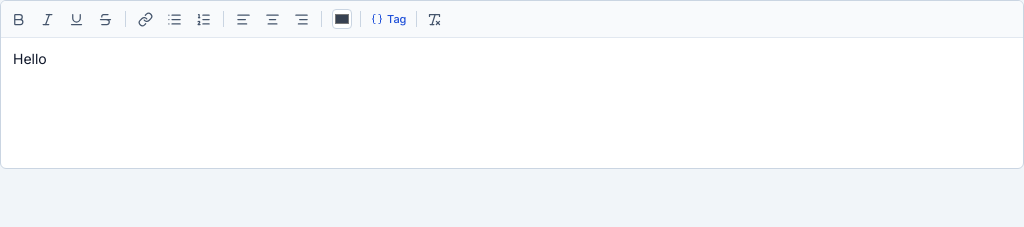
Test: RichTextEditor (real TipTap) › opens the link input
This screenshot has width=1024, height=227.
What coordinates should you click on to do the following:
click the button titled "Link"
I would click on:
 (146, 19)
Its box is [132,6,159,32].
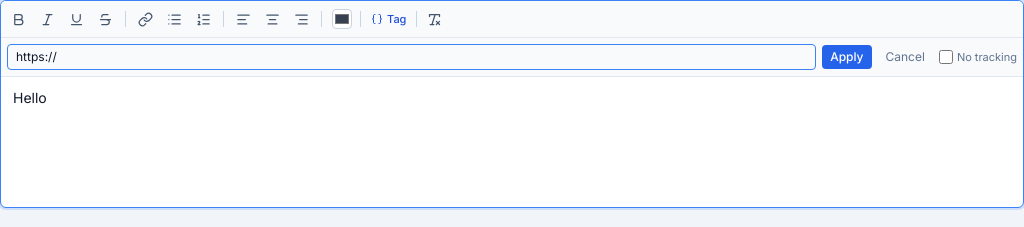
Check: the field with placeholder "https://…" is shown, box [7,44,816,70]
